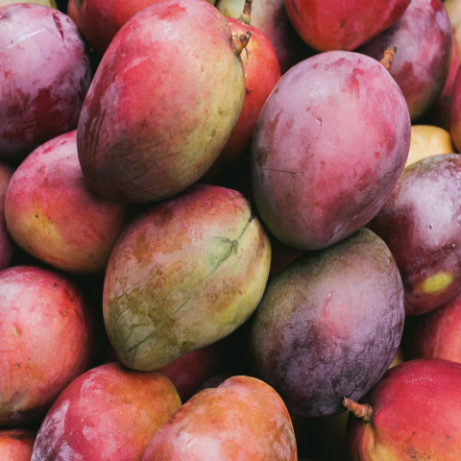mango: (56, 0, 263, 212), (249, 24, 416, 253), (81, 182, 291, 362), (242, 223, 414, 421)
